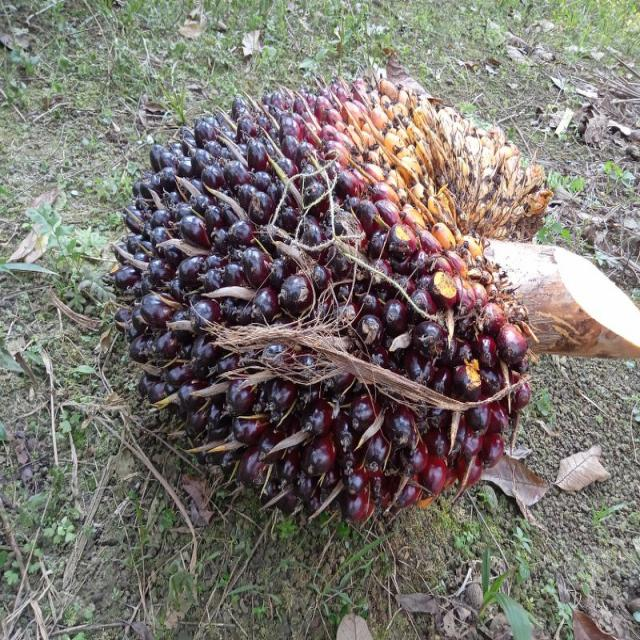fraksi 00: (99, 17, 554, 554)
